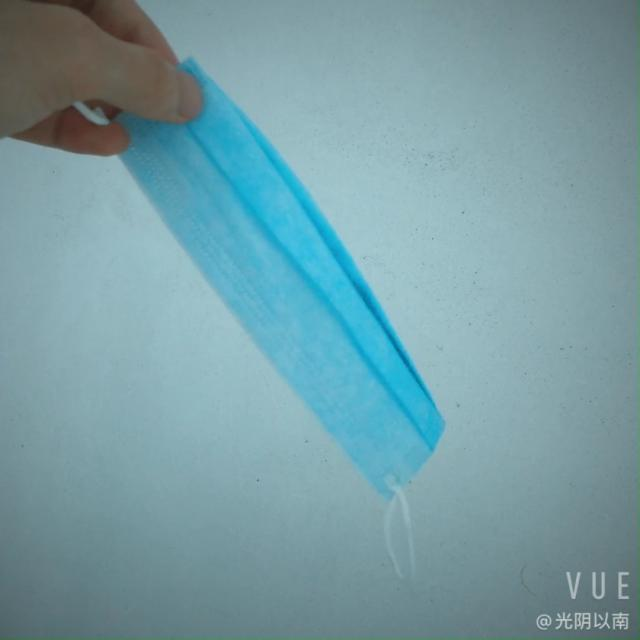face mask: (82, 31, 509, 508)
